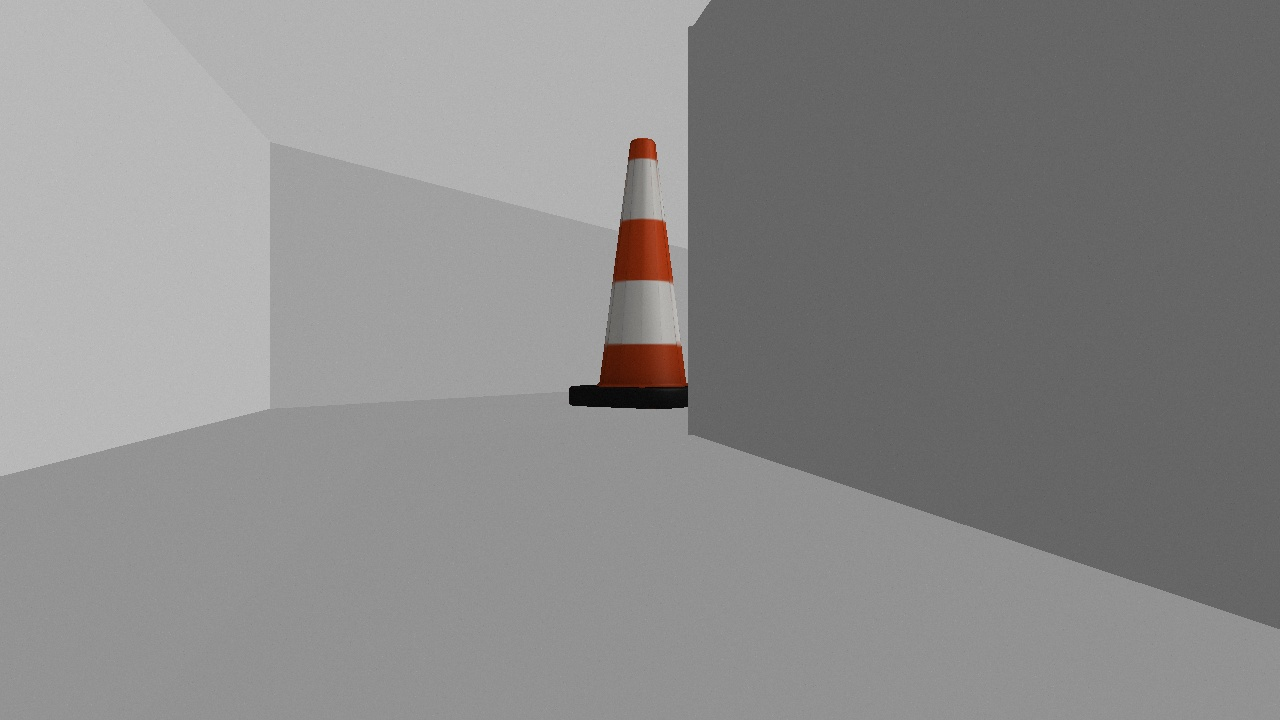barricade: (567, 138, 713, 410)
